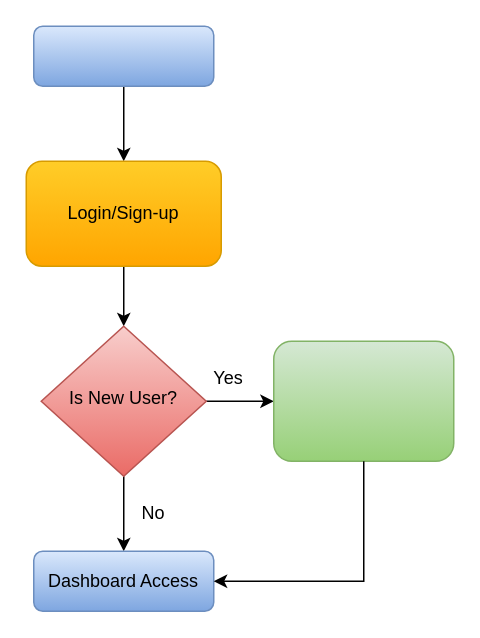
Some shapes in this 480 by 638 pixel diagram are drawn without their labels. Here are the shapes that lost their labels. From the top down, the box of each, then its label:
(32, 25, 214, 86): User
(272, 340, 454, 461): Save it in database
